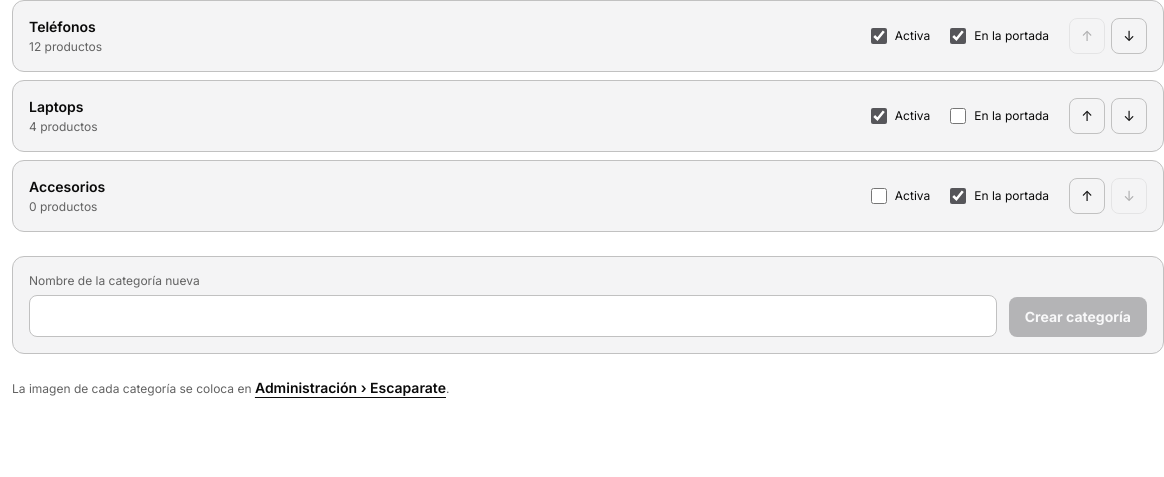
Test: a refusal is shown and the list keeps what the server has
Step 1. Click the checkbox named "Mostrar «Laptops» en la portada" → (958, 116), box [950,108,966,124]
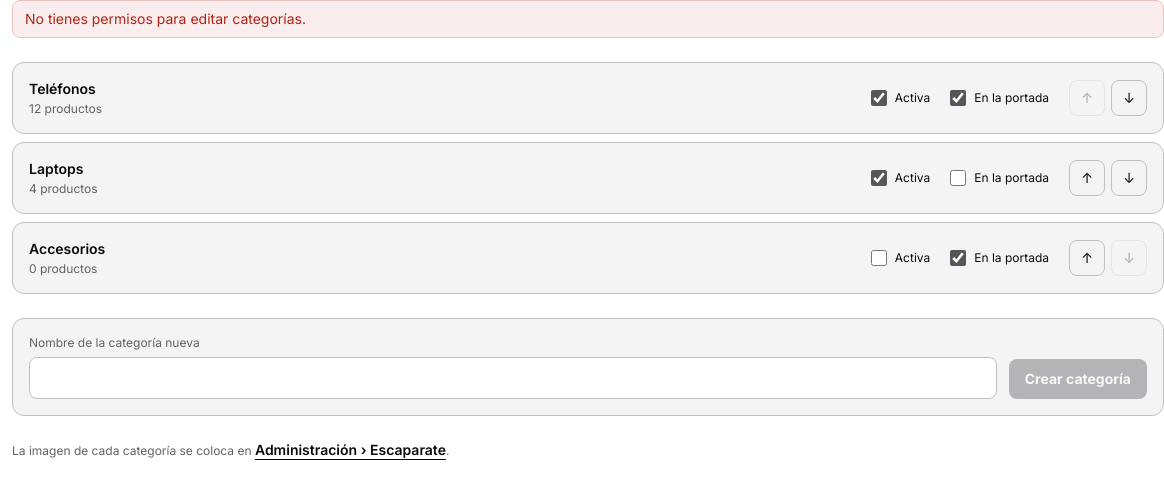
Check: the checkbox named "Mostrar «Laptops» en la portada" is not checked, box [950,170,966,186]
Check: the message shows "permisos", box [25,10,306,27]
